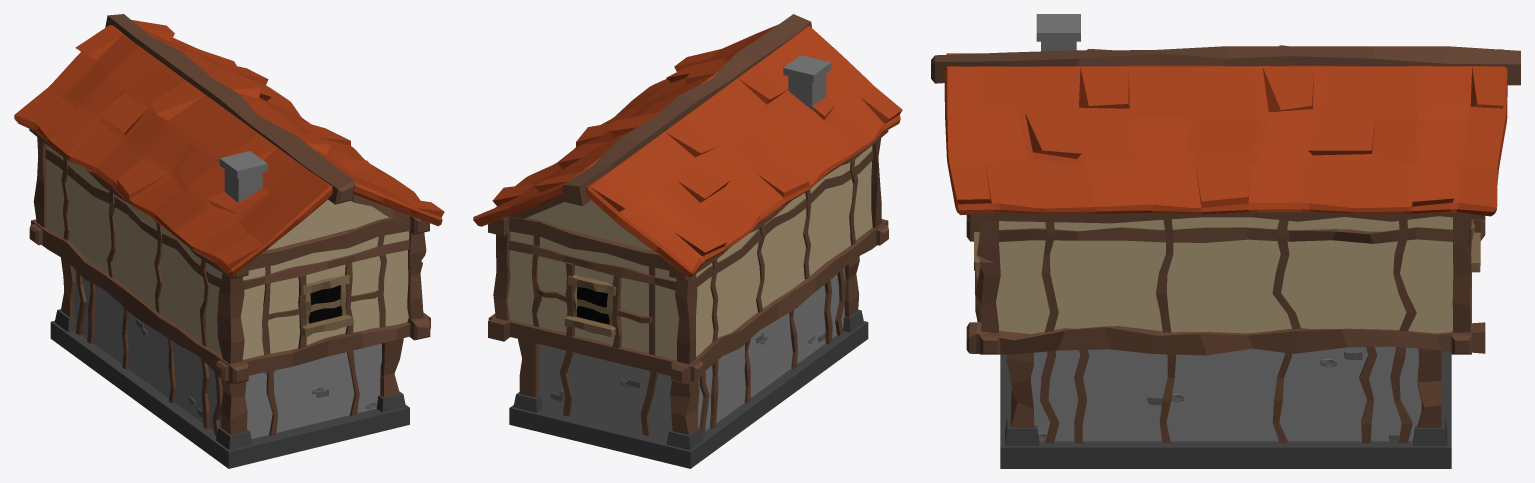
File: Houses_Collection.fbx
The picture shows the model from 3 angles, left to right: view 1: azimuth 30°, elevation 25°; view 2: azimuth 150°, elevation 25°; view 3: azimuth 270°, elevation 25°; orthographic projection. The views are drawn at different scales.
Parts seen in each view (by area): view 1: Cube.040; view 2: Cube.040; view 3: Cube.040.
Boxes of the visible parts, box(x1,y1,x2,y2) form: Cube.040: box(14, 14, 444, 468); Cube.040: box(473, 14, 902, 468); Cube.040: box(931, 14, 1520, 468).
Size of the model in its own units: 1110 by 1379 by 2000.
